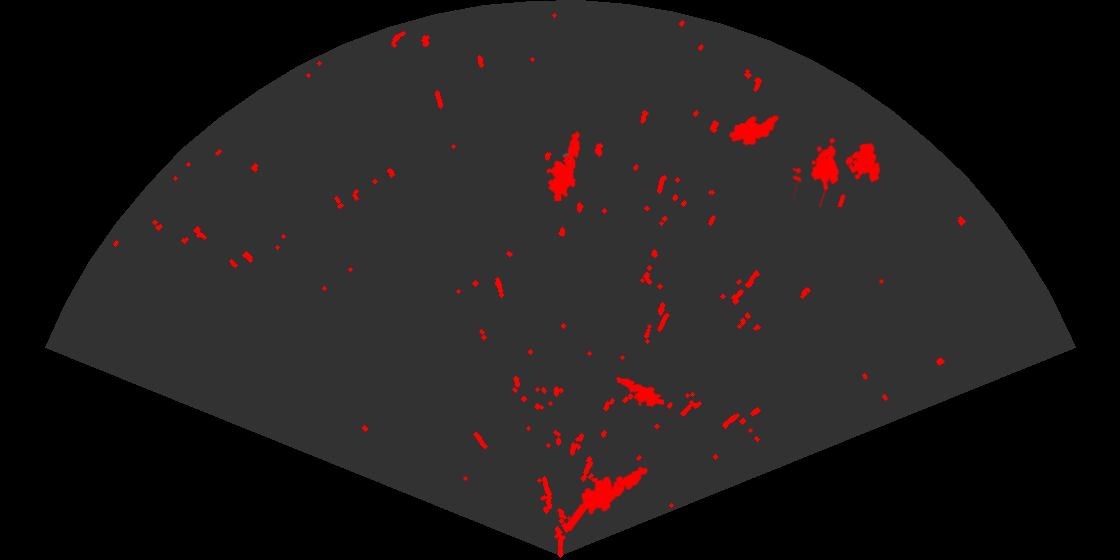AUV: (727, 113, 781, 147)
cage: (793, 136, 882, 207)
frogman: (566, 465, 650, 531), (545, 130, 582, 201), (614, 376, 664, 409)
